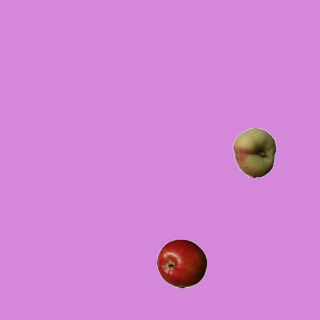Apple Braeburn: (156, 238, 206, 288)
Peach Flat: (229, 127, 279, 177)
